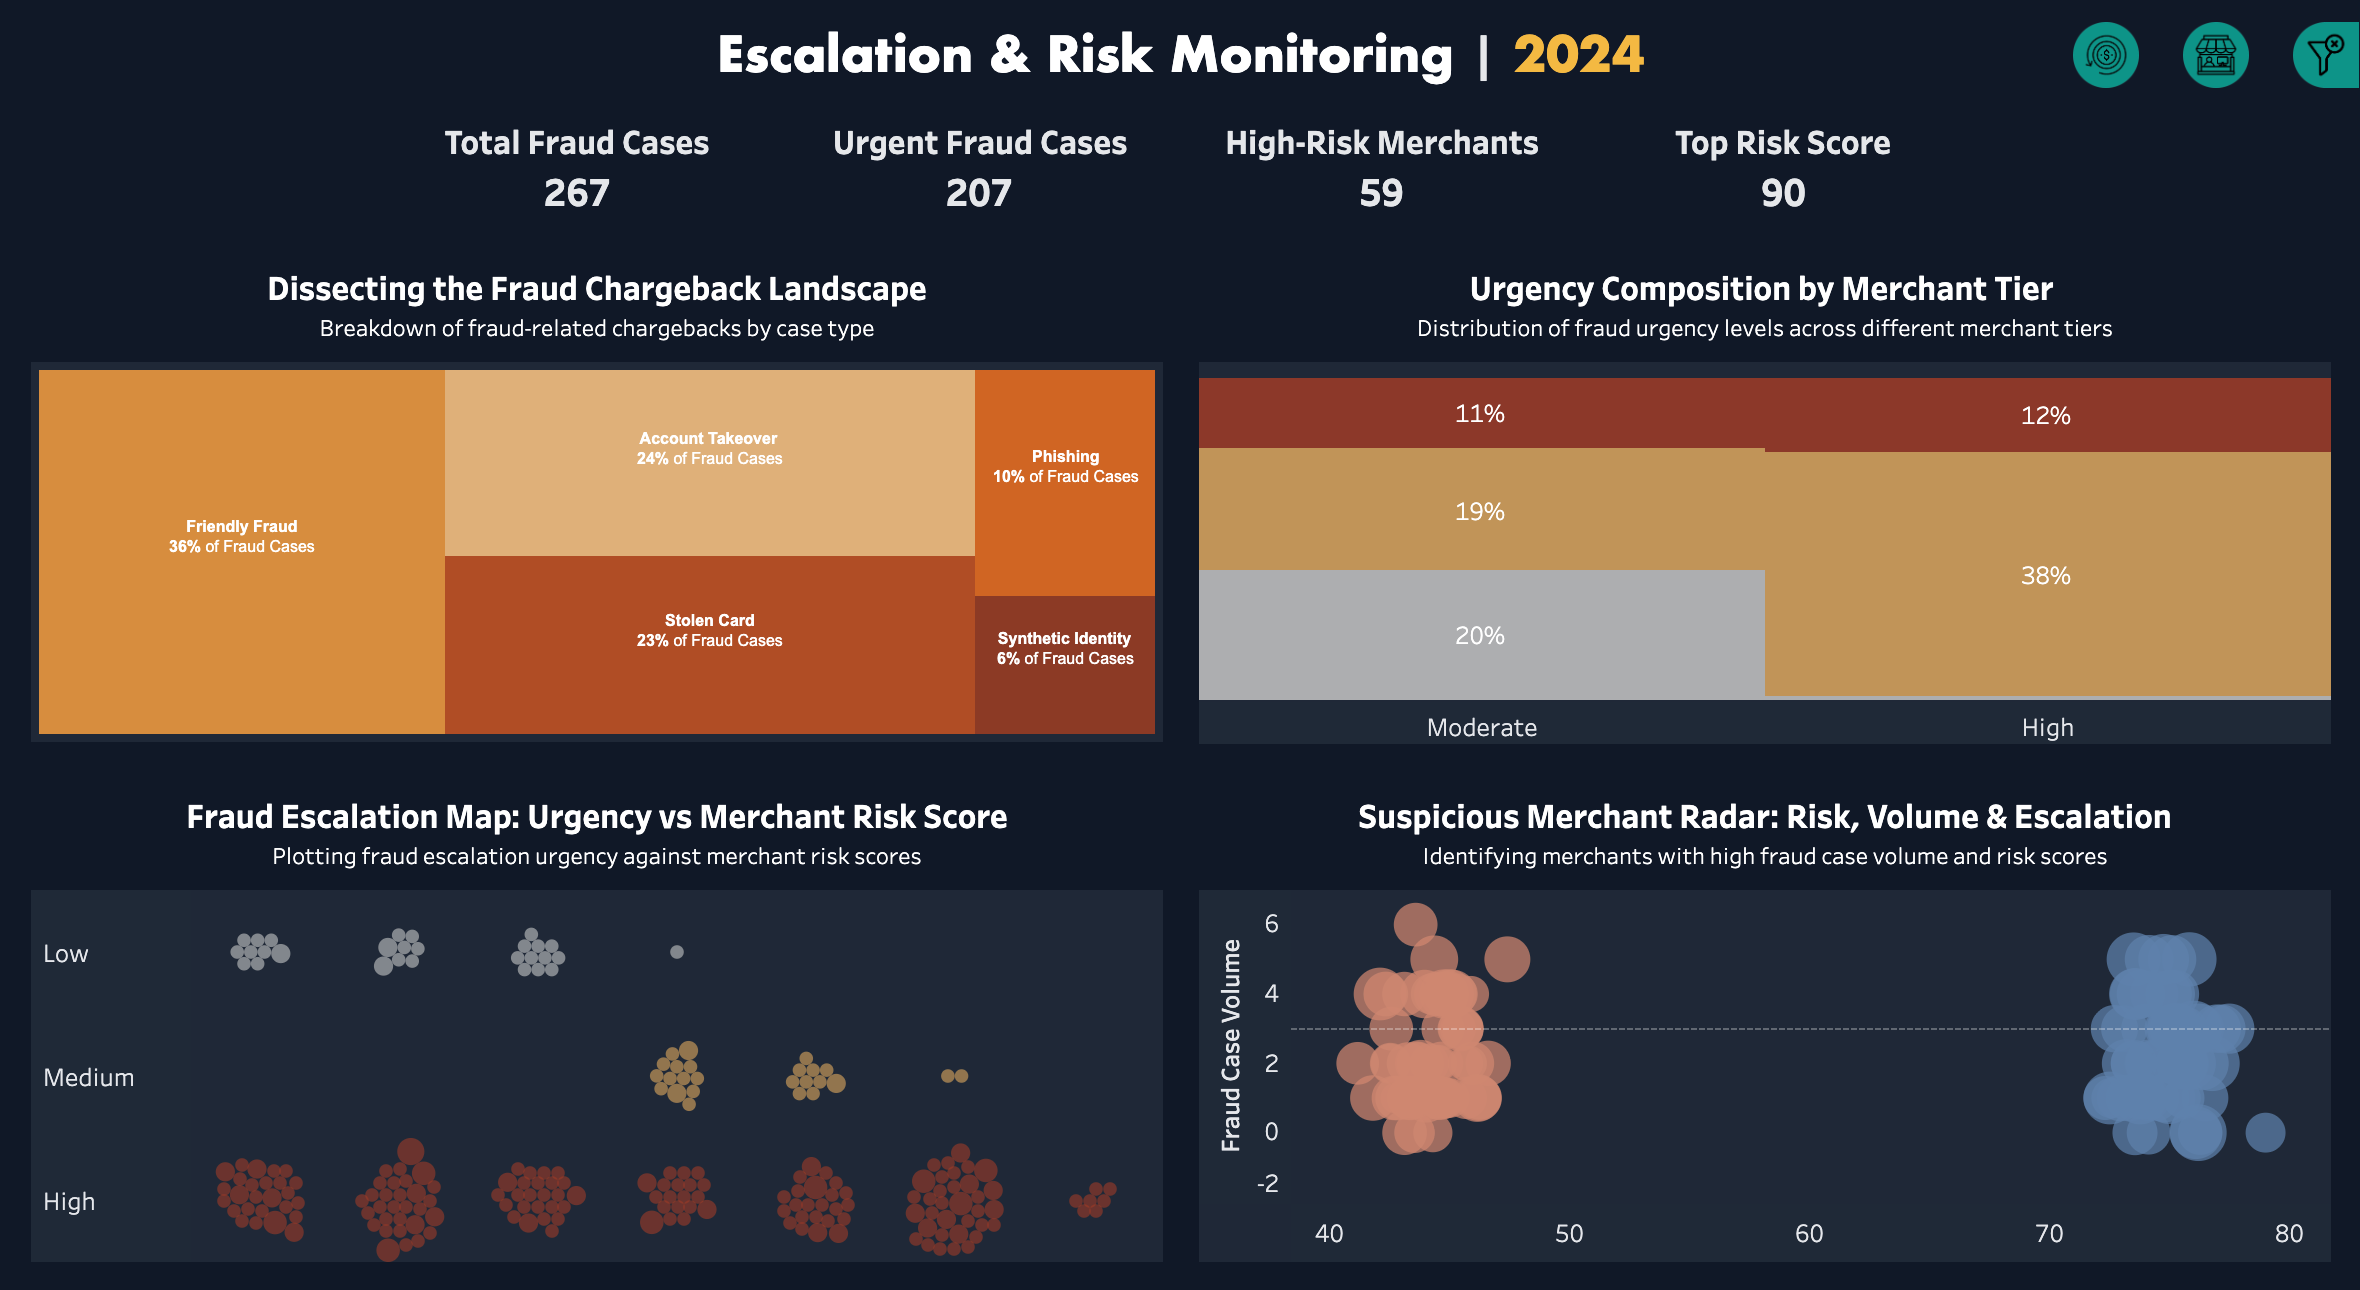

The page's visual inventory and layout, read from the dashboard file:
{"tool":"tableau","page":{"name":"Escalation & Risk Monitoring","canvas":[1000,1000],"units":"permille","ordinal":1},"visuals":[{"type":"text","box":[6.7,10,986.7,84.8]},{"type":"blank","box":[862.5,10,130,156.2]},{"type":"dashboard-object","box":[866.7,31.2,37.5,50]},{"type":"dashboard-object","box":[912.5,31.2,37.5,50]},{"type":"dashboard-object","box":[958.3,31.2,37.5,50]},{"type":"worksheet","title":"Total Fraud Cases","mark":"Automatic","box":[165,95,167.5,88.8]},{"type":"worksheet","title":"# of Urgent Fraud Cases","mark":"Automatic","box":[332.5,95,167.5,88.8]},{"type":"worksheet","title":"# of High-Risk Merchants","mark":"Automatic","box":[500,95,167.5,88.8]},{"type":"worksheet","title":"Top Risk Score Detected","mark":"Automatic","box":[667.5,95,167.5,88.8]},{"type":"text","box":[862.5,166.2,130,31.2]},{"type":"worksheet","title":"Dissecting the Fraud Chargeback Landscape","mark":"Automatic","box":[6.7,183.8,493.3,403.8]},{"type":"worksheet","title":"Urgency Composition by Merchant Tier ","mark":"Bar","cols":["Calculation_2188045761871572999"],"box":[500,183.8,493.3,403.8]},{"type":"parameter","param":"[Parameters].[Parameter 1]","box":[862.5,197.5,130,135]},{"type":"text","box":[862.5,332.5,130,31.2]},{"type":"filter","title":"# of High-Risk Merchants","param":"[federated.0wuc5fv0nmrn7l1etpsh61x213hc].[none:Chargeback Stage:nk]","box":[862.5,363.8,130,136.2]},{"type":"text","box":[862.5,500,130,31.2]},{"type":"filter","title":"Dissecting the Fraud Chargeback Landscape","param":"[federated.0wuc5fv0nmrn7l1etpsh61x213hc].[none:Merchant Category:nk]","box":[862.5,531.2,130,107.5]},{"type":"worksheet","title":"Fraud Escalation Map: Urgency vs Merchant Risk Score","mark":"Circle","rows":["Case Urgency"],"cols":["Merchant Risk Score (bin)"],"box":[6.7,587.5,493.3,402.5]},{"type":"worksheet","title":"Suspicious Merchant Radar: Risk, Volume & Escalation","mark":"Circle","rows":["Calculation_2188045761868836867"],"cols":["Merchant Risk Score"],"box":[500,587.5,493.3,402.5]},{"type":"legend","title":"Fraud Escalation Map: Urgency vs Merchant Risk Score","param":"[federated.0wuc5fv0nmrn7l1etpsh61x213hc].[ctd:Chargeback Reference Number:qk]","box":[862.5,638.8,130,27.5]},{"type":"text","box":[862.5,666.2,130,31.2]},{"type":"filter","title":"Dissecting the Fraud Chargeback Landscape","param":"[federated.0wuc5fv0nmrn7l1etpsh61x213hc].[none:Reason Code:nk]","box":[862.5,697.5,130,42.5]}]}

Visuals, with their boxes on the dashboard's canvas, which has no fixed pixel size, in thousandths of its width and height (x1, y1, x2, y2). These are canvas units, not pixel positions in the 2360x1290 screenshot, which may show the page scaled, cropped or inside an application window:
text: l=7, t=10, r=993, b=95
blank: l=862, t=10, r=992, b=166
dashboard-object: l=867, t=31, r=904, b=81
dashboard-object: l=912, t=31, r=950, b=81
dashboard-object: l=958, t=31, r=996, b=81
"Total Fraud Cases" worksheet: l=165, t=95, r=332, b=184
"# of Urgent Fraud Cases" worksheet: l=332, t=95, r=500, b=184
"# of High-Risk Merchants" worksheet: l=500, t=95, r=668, b=184
"Top Risk Score Detected" worksheet: l=668, t=95, r=835, b=184
text: l=862, t=166, r=992, b=197
"Dissecting the Fraud Chargeback Landscape" worksheet: l=7, t=184, r=500, b=588
"Urgency Composition by Merchant Tier " worksheet (Bar marks): l=500, t=184, r=993, b=588
parameter: l=862, t=198, r=992, b=332
text: l=862, t=332, r=992, b=364
"# of High-Risk Merchants" filter: l=862, t=364, r=992, b=500
text: l=862, t=500, r=992, b=531
"Dissecting the Fraud Chargeback Landscape" filter: l=862, t=531, r=992, b=639
"Fraud Escalation Map: Urgency vs Merchant Risk Score" worksheet (Circle marks): l=7, t=588, r=500, b=990
"Suspicious Merchant Radar: Risk, Volume & Escalation" worksheet (Circle marks): l=500, t=588, r=993, b=990
"Fraud Escalation Map: Urgency vs Merchant Risk Score" legend: l=862, t=639, r=992, b=666
text: l=862, t=666, r=992, b=697
"Dissecting the Fraud Chargeback Landscape" filter: l=862, t=698, r=992, b=740
